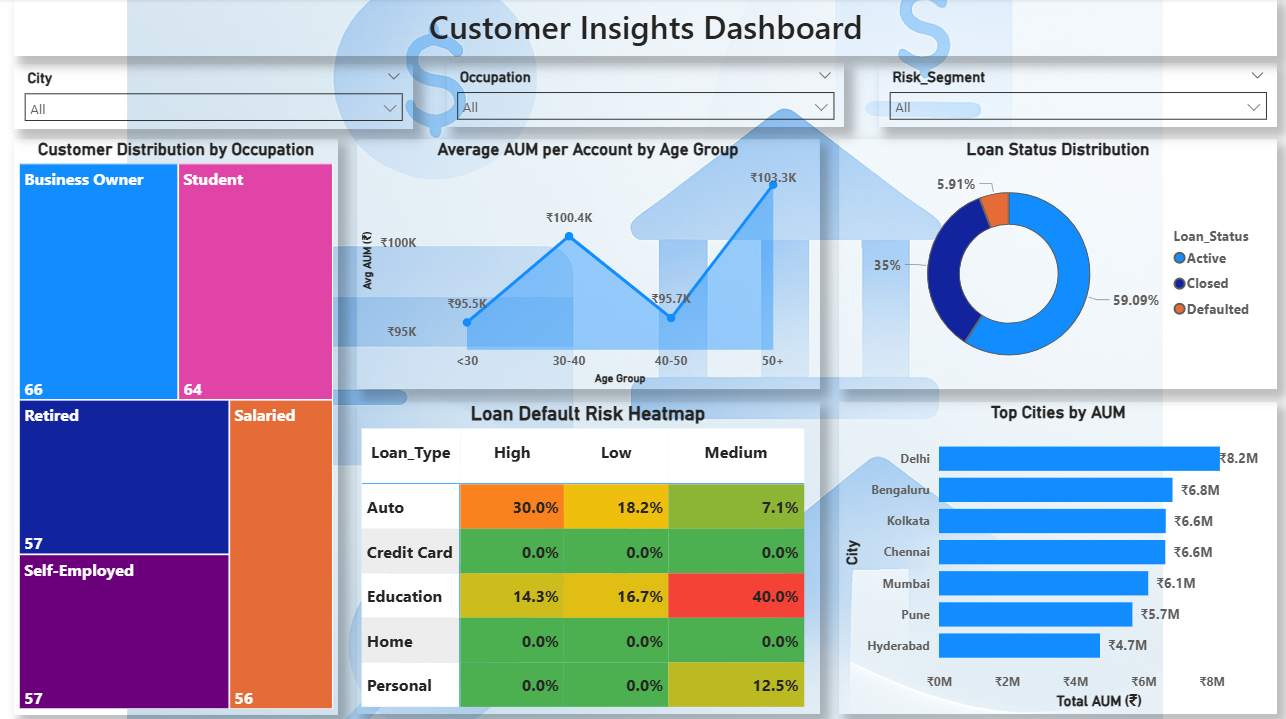

This screenshot's page, from the dashboard's own definition file:
{"tool":"powerbi","page":{"name":"Page 2","canvas":[1280,720],"ordinal":1},"visuals":[{"type":"textbox","box":[16.2,0,1248.9,57.2],"z":0},{"type":"slicer","title":"Transaction Type","fields":{"Values":["customers_table.City"]},"box":[16.1,65.5,394.2,64.3],"z":1000},{"type":"slicer","title":"Transaction Type","fields":{"Values":["customers_table.Occupation"]},"box":[443.6,64.3,393,63],"z":2000},{"type":"slicer","title":"Transaction Type","fields":{"Values":["customers_table.Risk_Segment"]},"box":[871.2,64.3,393,63],"z":3000},{"type":"treemap","title":"Customer Distribution by Occupation","fields":{"Group":["customers_table.Occupation"],"Values":["All_measures.Total Customers"]},"box":[16.1,139.6,320.1,568.5],"z":4000},{"type":"lineChart","title":"Average AUM per Account by Age Group","fields":{"Y":["All_measures.AVG AUM Per Account"],"Category":["customers_table.Age_Group"]},"box":[354.7,139.6,457.2,247.2],"z":5000},{"type":"donutChart","title":"Loan Status Distribution","fields":{"Category":["loans_table.Loan_Status"],"Y":["All_measures.Total Loan"]},"box":[831.7,139.6,432.5,247.2],"z":6000},{"type":"pivotTable","title":"Loan Default Risk Heatmap","fields":{"Rows":["loans_table.Loan_Type"],"Columns":["customers_table.Risk_Segment"],"Values":["All_measures.Default Rate %"]},"box":[354.7,399.2,457.2,308.9],"z":7000},{"type":"clusteredBarChart","title":"Top Cities by AUM","fields":{"Category":["customers_table.City"],"Y":["All_measures.Total AUM"]},"box":[832,399,433,309],"z":8000}]}

Visuals, with their boxes in screenshot pixels (x1, y1, x2, y2), scaled from the page's 1280x720 canvas onto the 1286x719 screenshot:
textbox: bbox=(16, 0, 1271, 57)
"Transaction Type" slicer: bbox=(16, 65, 412, 130)
"Transaction Type" slicer: bbox=(446, 64, 841, 127)
"Transaction Type" slicer: bbox=(875, 64, 1270, 127)
"Customer Distribution by Occupation" treemap: bbox=(16, 139, 338, 707)
"Average AUM per Account by Age Group" lineChart: bbox=(356, 139, 816, 386)
"Loan Status Distribution" donutChart: bbox=(836, 139, 1270, 386)
"Loan Default Risk Heatmap" pivotTable: bbox=(356, 399, 816, 707)
"Top Cities by AUM" clusteredBarChart: bbox=(836, 398, 1271, 707)
